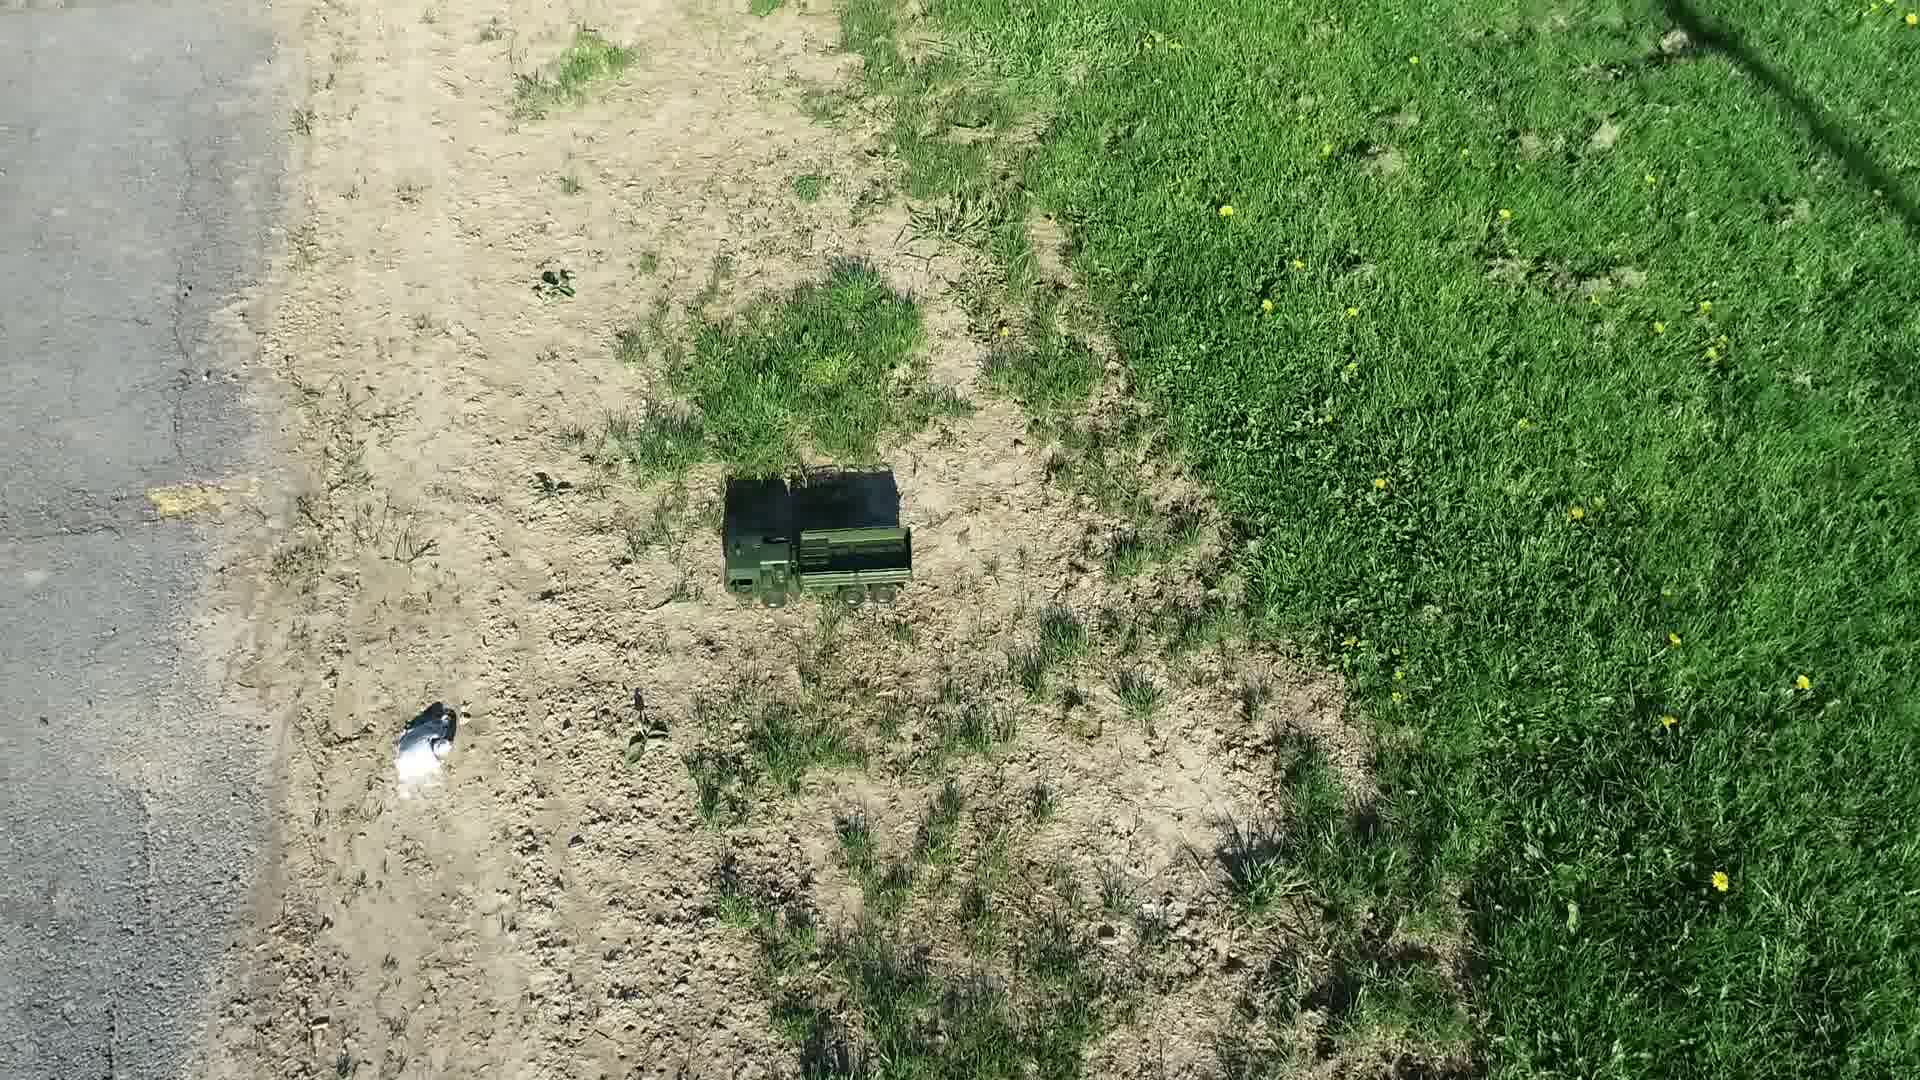transporter9: (716, 521, 934, 615)
